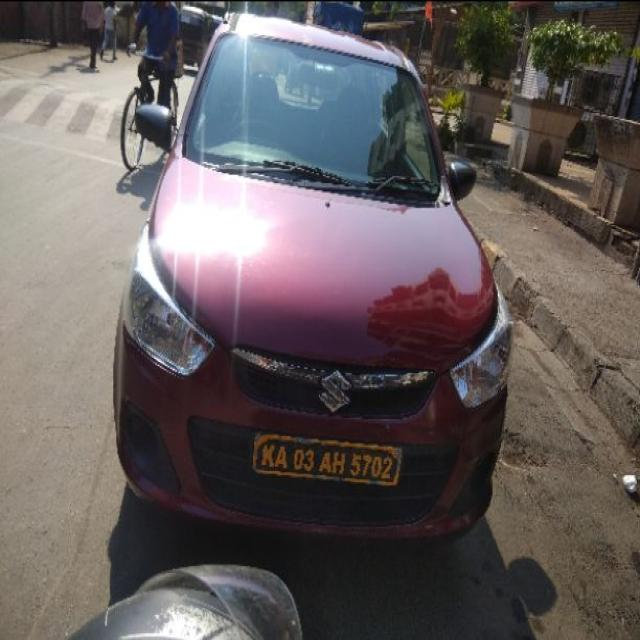license_plate: (250, 431, 403, 486)
